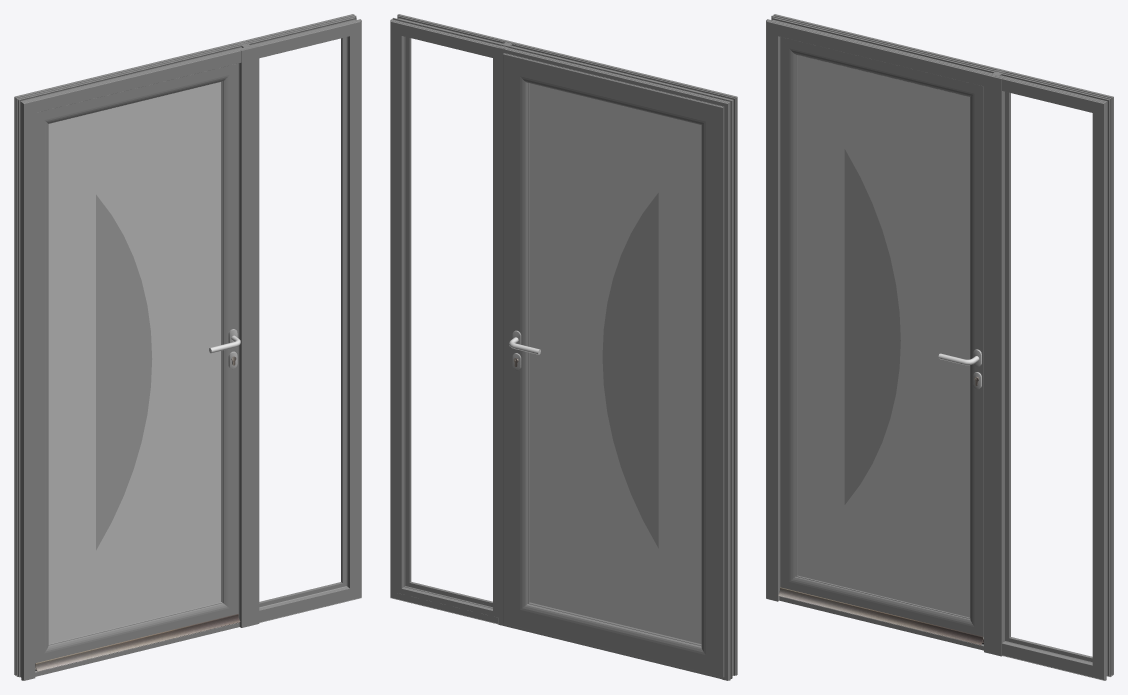
3 renders of one model, left to right at view 1: azimuth 30°, elevation 25°; view 2: azimuth 150°, elevation 25°; view 3: azimuth 330°, elevation 25°, orthographic.
Parts seen in each view (by area): view 1: fosco_6, aroFixo, aroMovel, transparente_6, montanteCentral, bite, borracha, escovas, rodaPe; view 2: fosco_6, aroMovel, aroFixo, transparente_6, bite, montanteCentral, borracha, rodaPe; view 3: fosco_6, aroFixo, aroMovel, transparente_6, montanteCentral, bite, escovas, borracha, rodaPe.
Boxes of the visible parts, box(x1,y1,x2,y2) form: fosco_6: box(48, 82, 221, 643); aroFixo: box(14, 14, 361, 680); aroMovel: box(35, 63, 238, 663); transparente_6: box(96, 194, 152, 550); montanteCentral: box(238, 42, 259, 627); bite: box(259, 37, 346, 607); borracha: box(259, 37, 345, 606); escovas: box(35, 614, 240, 671); rodaPe: box(35, 622, 239, 676); fosco_6: box(529, 83, 701, 644); aroMovel: box(503, 53, 724, 677); aroFixo: box(390, 14, 737, 680); transparente_6: box(602, 193, 658, 548); bite: box(396, 29, 498, 617); montanteCentral: box(498, 40, 518, 626); borracha: box(404, 36, 492, 608); rodaPe: box(505, 624, 721, 679); fosco_6: box(797, 55, 969, 617); aroFixo: box(766, 14, 1113, 680); aroMovel: box(780, 37, 983, 638); transparente_6: box(844, 149, 900, 504); montanteCentral: box(984, 70, 1004, 656); bite: box(1005, 91, 1092, 661); escovas: box(778, 587, 983, 645); borracha: box(1006, 92, 1092, 660); rodaPe: box(779, 596, 983, 650).
Bounding box in the file's own units: 1320 × 2149 × 185.
Materials: 10 (4 with a texture image).
